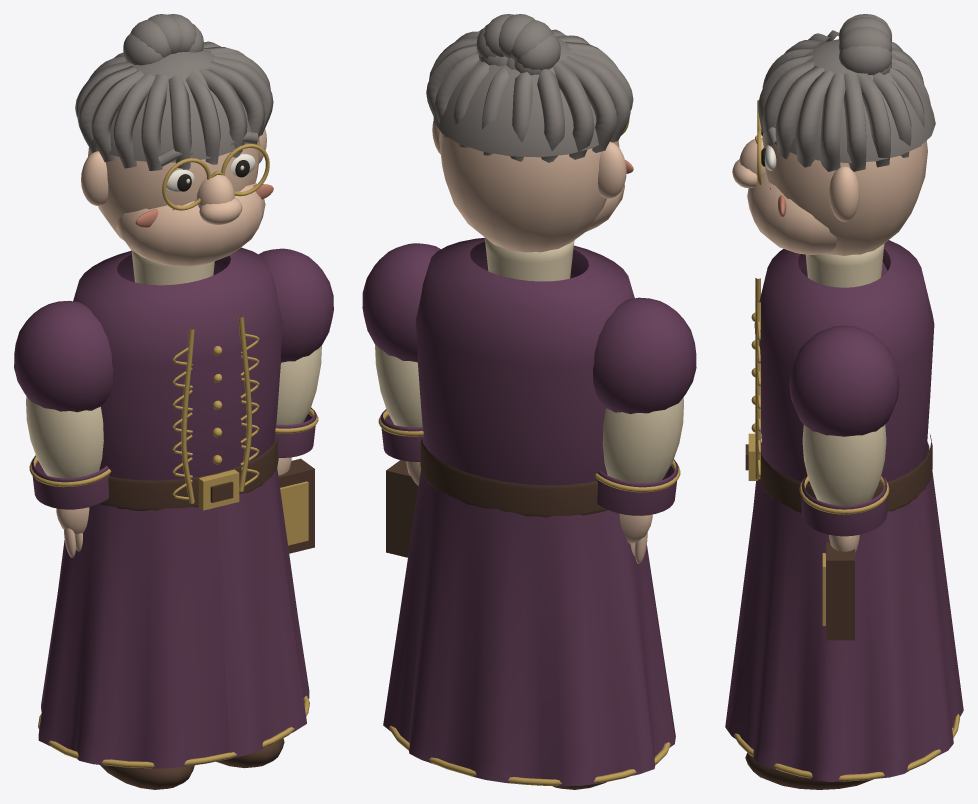
File: scholar.glb
3 renders of one model, left to right at view 1: azimuth 30°, elevation 25°; view 2: azimuth 150°, elevation 25°; view 3: azimuth 270°, elevation 25°, orthographic. The views are drawn at different scales.
Visible parts, largest first — view 1: Velvet scholar (×3), Hair scholar, Skin scholar (×2), Antique brass (×2), Ivory woven cloth (×3), Leather (×3), Eye white; view 2: Velvet scholar (×3), Hair scholar, Skin scholar (×2), Ivory woven cloth (×3), Leather, Antique brass; view 3: Velvet scholar (×2), Hair scholar, Skin scholar (×2), Ivory woven cloth (×2), Leather (×2), Antique brass (×2).
Boxes of the visible parts, x1=… form: Velvet scholar (×3): x1=14, y1=247, x2=333, y2=768; Hair scholar: x1=75, y1=14, x2=273, y2=170; Skin scholar (×2): x1=56, y1=129, x2=266, y2=557; Antique brass (×2): x1=38, y1=143, x2=309, y2=768; Ivory woven cloth (×3): x1=26, y1=250, x2=321, y2=478; Leather (×3): x1=99, y1=435, x2=314, y2=789; Eye white: x1=166, y1=153, x2=255, y2=191; Velvet scholar (×3): x1=362, y1=238, x2=696, y2=786; Hair scholar: x1=426, y1=14, x2=633, y2=162; Skin scholar (×2): x1=432, y1=121, x2=652, y2=563; Ivory woven cloth (×3): x1=375, y1=237, x2=683, y2=482; Leather: x1=386, y1=438, x2=607, y2=557; Antique brass: x1=389, y1=725, x2=670, y2=785; Velvet scholar (×2): x1=725, y1=240, x2=963, y2=781; Hair scholar: x1=758, y1=14, x2=935, y2=171; Skin scholar (×2): x1=732, y1=133, x2=927, y2=553; Ivory woven cloth (×2): x1=802, y1=243, x2=886, y2=505; Leather (×2): x1=745, y1=434, x2=932, y2=789; Antique brass (×2): x1=734, y1=278, x2=959, y2=781.
Size of the model in its own units: 0.9384 by 2.15 by 0.6252.
